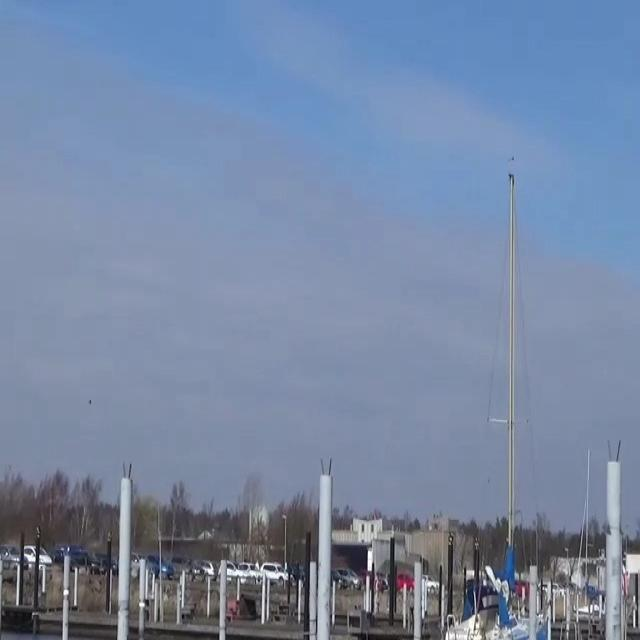bird: (87, 397, 93, 405)
